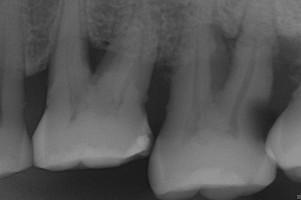Endo-Periodontal Lesion: (210, 23, 239, 91), (86, 37, 109, 72)
